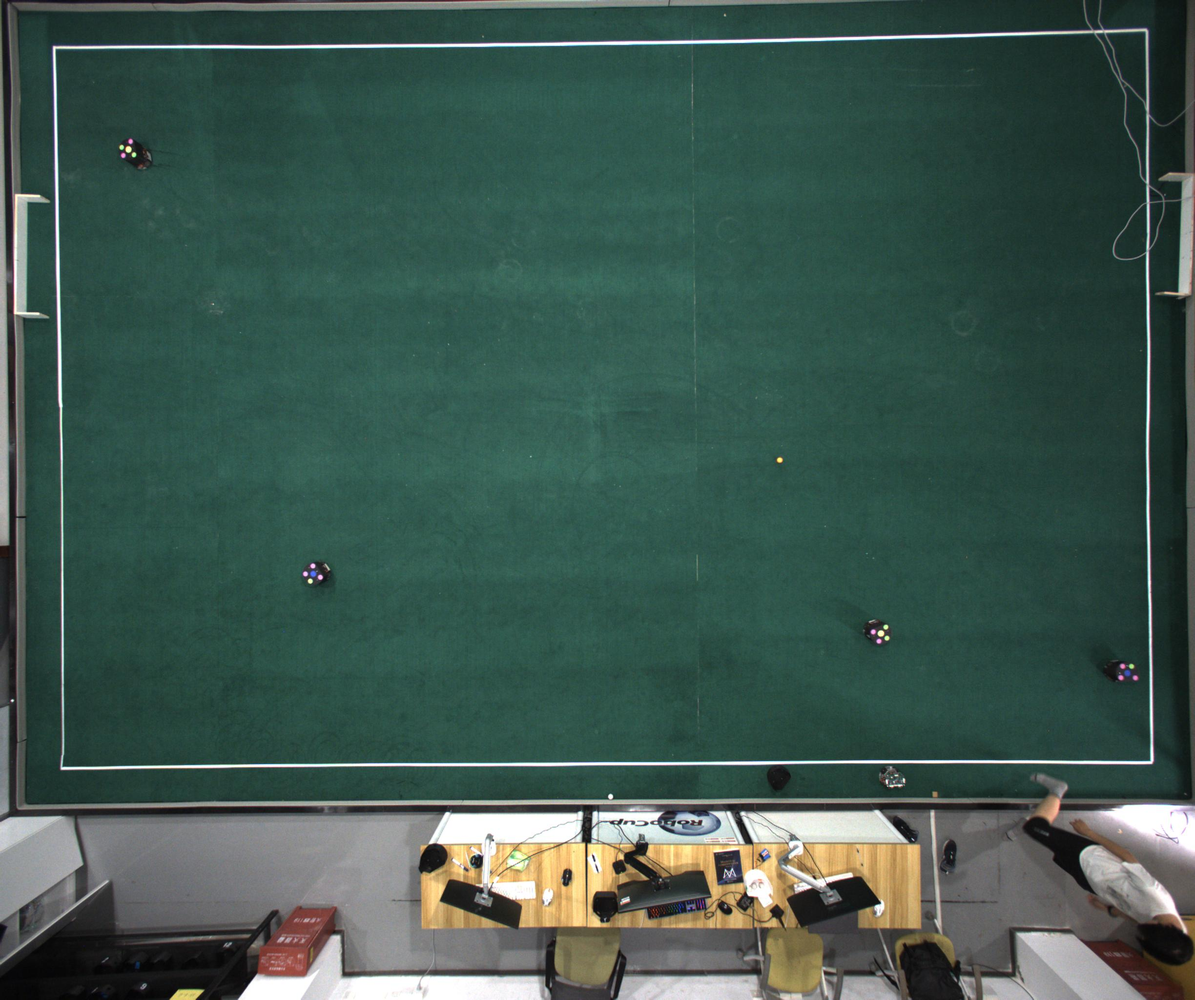ball: (777, 457, 783, 464)
blue_bot: (302, 563, 325, 586), (1116, 661, 1139, 681)
yellow_bot: (118, 138, 139, 161), (870, 624, 892, 645)
